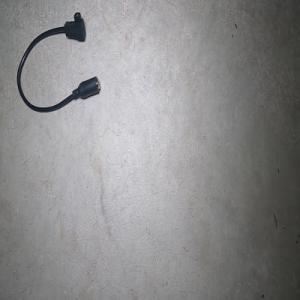Wire: (16, 12, 100, 113)
